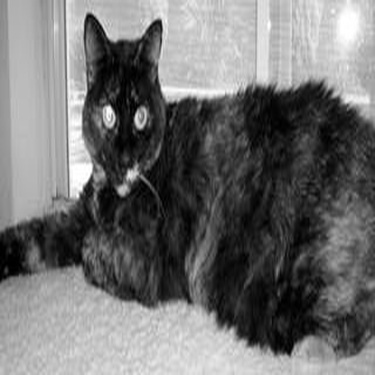cat: (3, 8, 370, 362)
